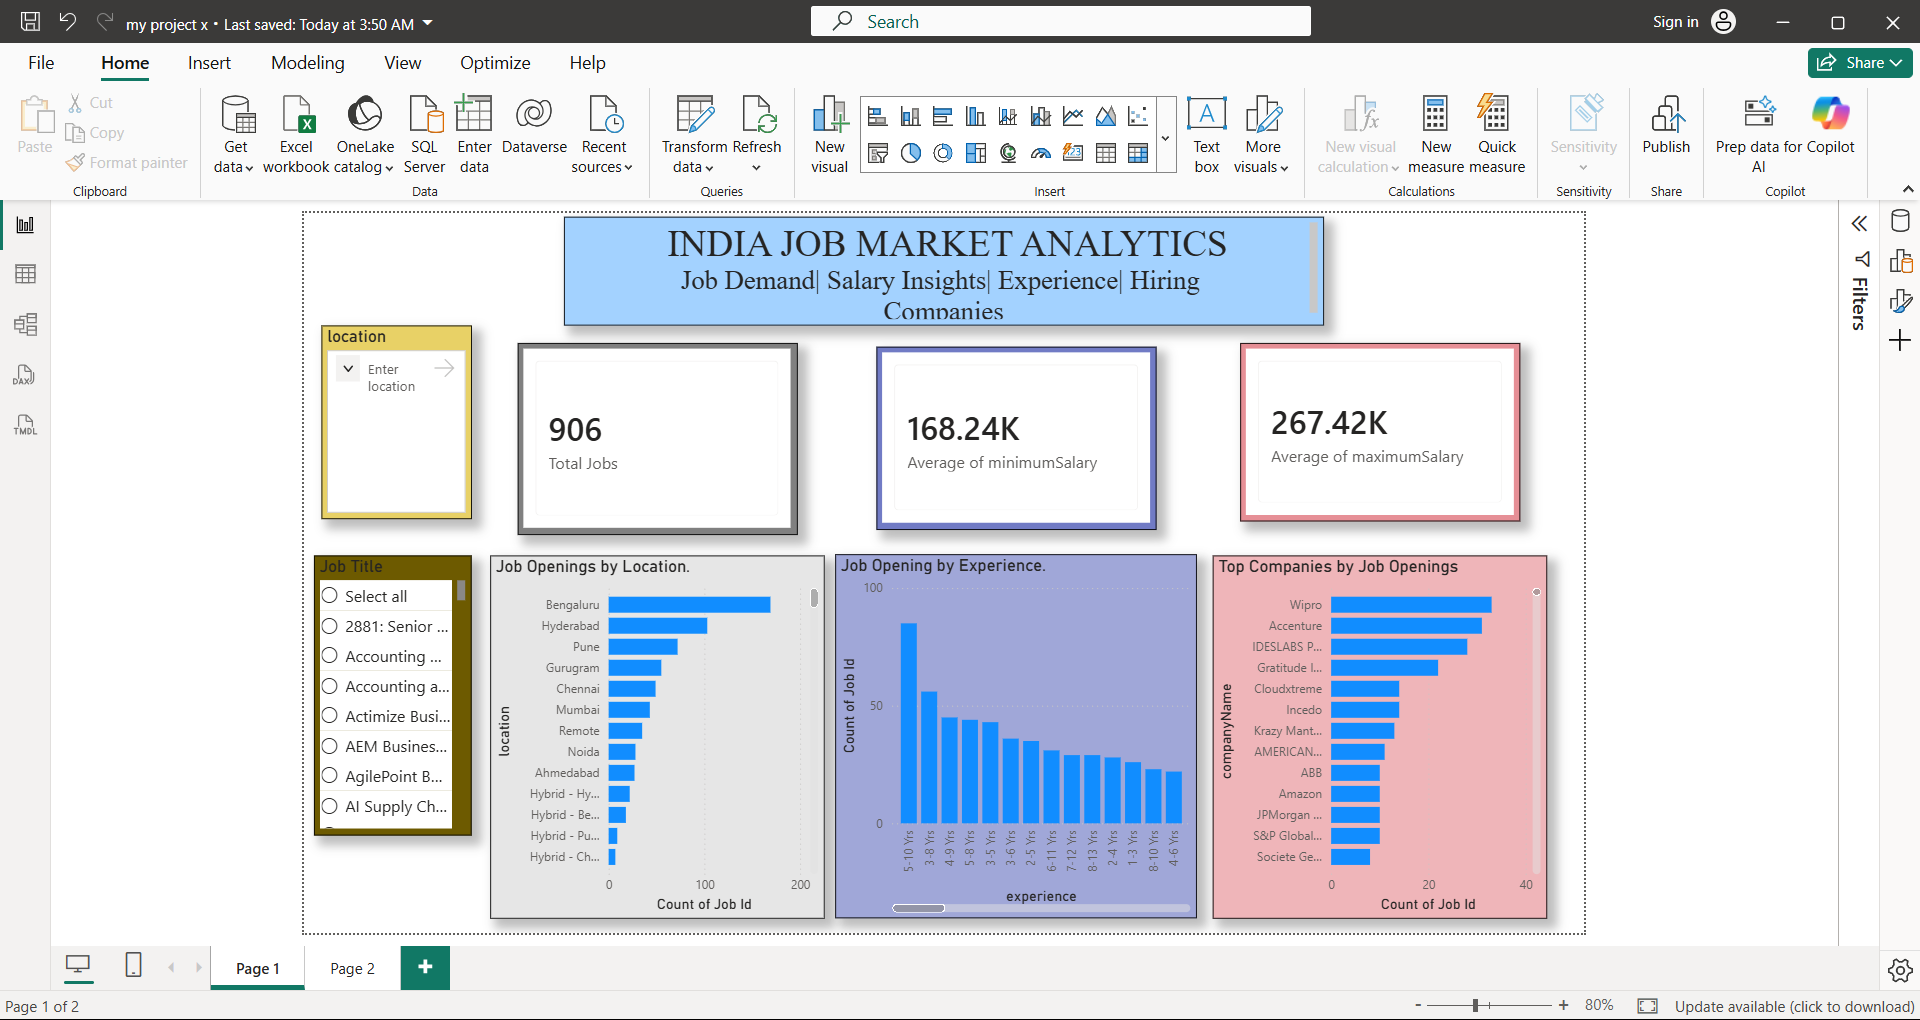

What the dashboard file says about the page in this screenshot:
{"tool":"powerbi","page":{"name":"Page 1","canvas":[1280,720],"ordinal":0},"visuals":[{"type":"clusteredBarChart","title":"Job Openings by Location.","fields":{"Category":["analytics_jobs.location"],"Y":["CountNonNull(analytics_jobs.Job Id)"]},"box":[185.7,342.9,334.3,362.9],"z":0},{"type":"cardVisual","fields":{"Data":["analytics_jobs.Total Jobs"]},"box":[213.5,129.8,279.9,191.9],"z":1000},{"type":"cardVisual","fields":{"Data":["Avg(analytics_jobs.minimumSalary)"]},"box":[572.9,134.3,280,182.9],"z":2000},{"type":"cardVisual","fields":{"Data":["Avg(analytics_jobs.maximumSalary)"]},"box":[935.7,130,280,178.6],"z":3000},{"type":"clusteredColumnChart","title":"Job Opening by Experience.","fields":{"Category":["analytics_jobs.experience"],"Y":["CountNonNull(analytics_jobs.Job Id)"]},"box":[531.4,341.4,361.4,364.3],"z":4000},{"type":"clusteredBarChart","title":"Top Companies by Job Openings","fields":{"Category":["analytics_jobs.companyName"],"Y":["CountNonNull(analytics_jobs.Job Id)"]},"box":[908.6,342.9,334.3,362.9],"z":5000},{"type":"textSlicer","fields":{"Values":["analytics_jobs.location"]},"box":[17.5,112.5,150,193.8],"z":6000},{"type":"textbox","box":[260,4.3,760,108.6],"z":8000},{"type":"listSlicer","fields":{"Values":["analytics_jobs.Job Title"]},"box":[10,342.5,157.5,280],"z":8001}]}

Visuals, with their boxes on the page's 1280x720 design canvas (x1, y1, x2, y2). These are canvas units, not pixel positions in the 1920x1020 screenshot, which may show the page scaled, cropped or inside an application window:
"Job Openings by Location." clusteredBarChart: Rect(186, 343, 520, 706)
cardVisual - analytics_jobs.Total Jobs: Rect(214, 130, 493, 322)
cardVisual - Avg(analytics_jobs.minimumSalary): Rect(573, 134, 853, 317)
cardVisual - Avg(analytics_jobs.maximumSalary): Rect(936, 130, 1216, 309)
"Job Opening by Experience." clusteredColumnChart: Rect(531, 341, 893, 706)
"Top Companies by Job Openings" clusteredBarChart: Rect(909, 343, 1243, 706)
textSlicer - analytics_jobs.location: Rect(18, 112, 168, 306)
textbox: Rect(260, 4, 1020, 113)
listSlicer - analytics_jobs.Job Title: Rect(10, 342, 168, 622)
